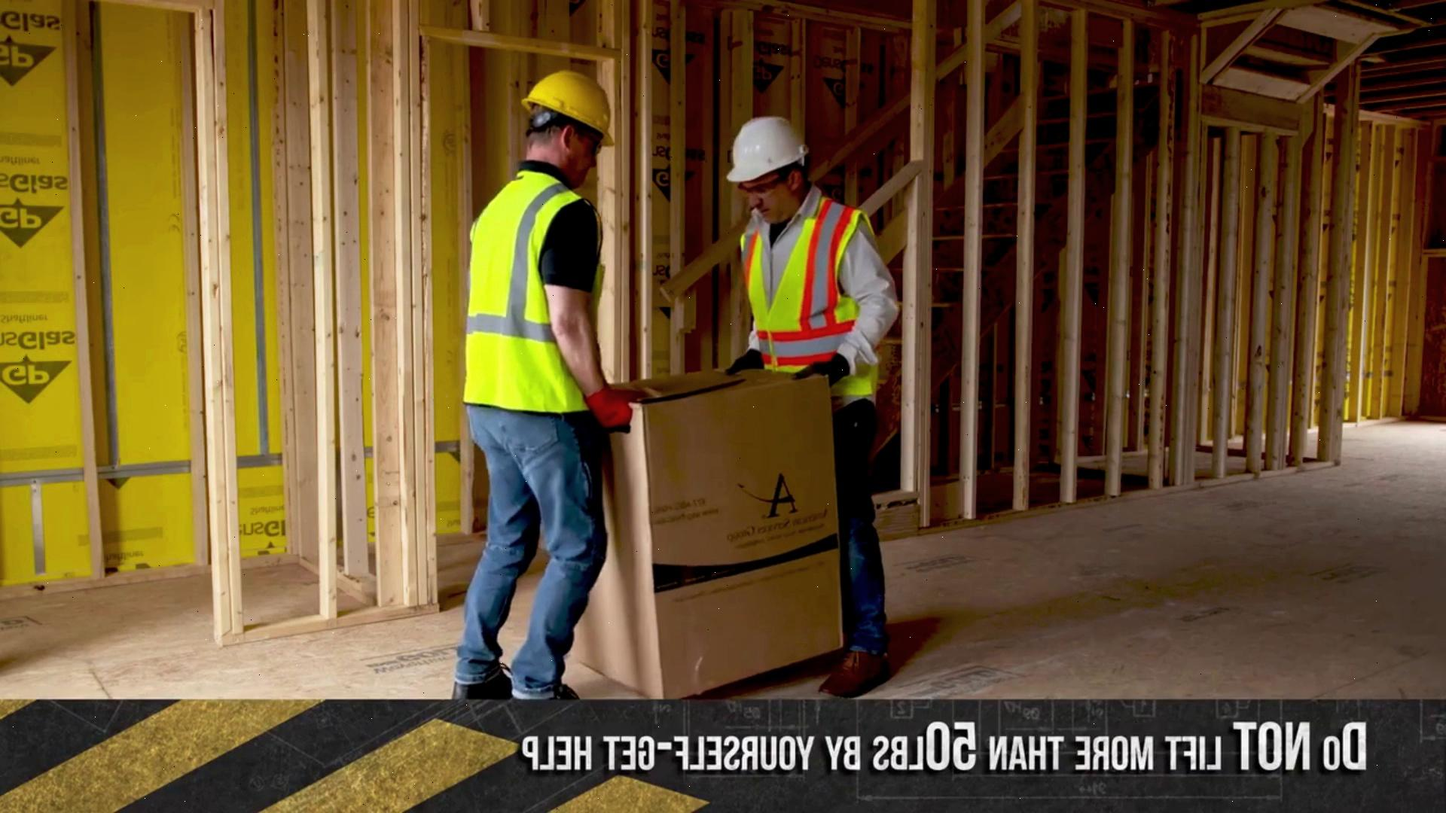Hard_hat: (719, 100, 814, 176), (524, 70, 636, 133)
Person: (446, 66, 634, 700), (724, 110, 886, 680)
Vest: (428, 174, 568, 415), (729, 199, 856, 413)
